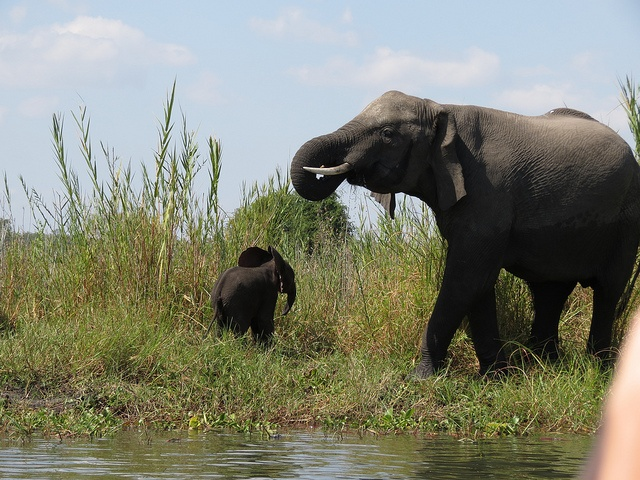elephant: (291, 91, 640, 373), (211, 243, 300, 351)
